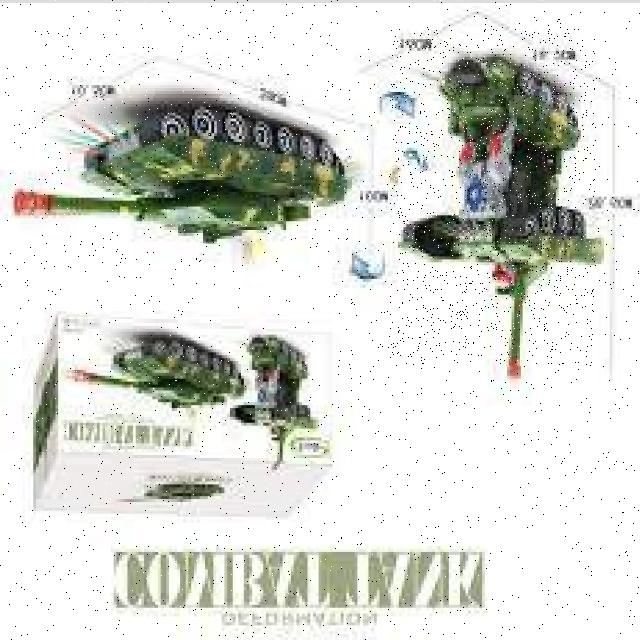MIL_MBT: (390, 29, 595, 365), (14, 96, 350, 242)
